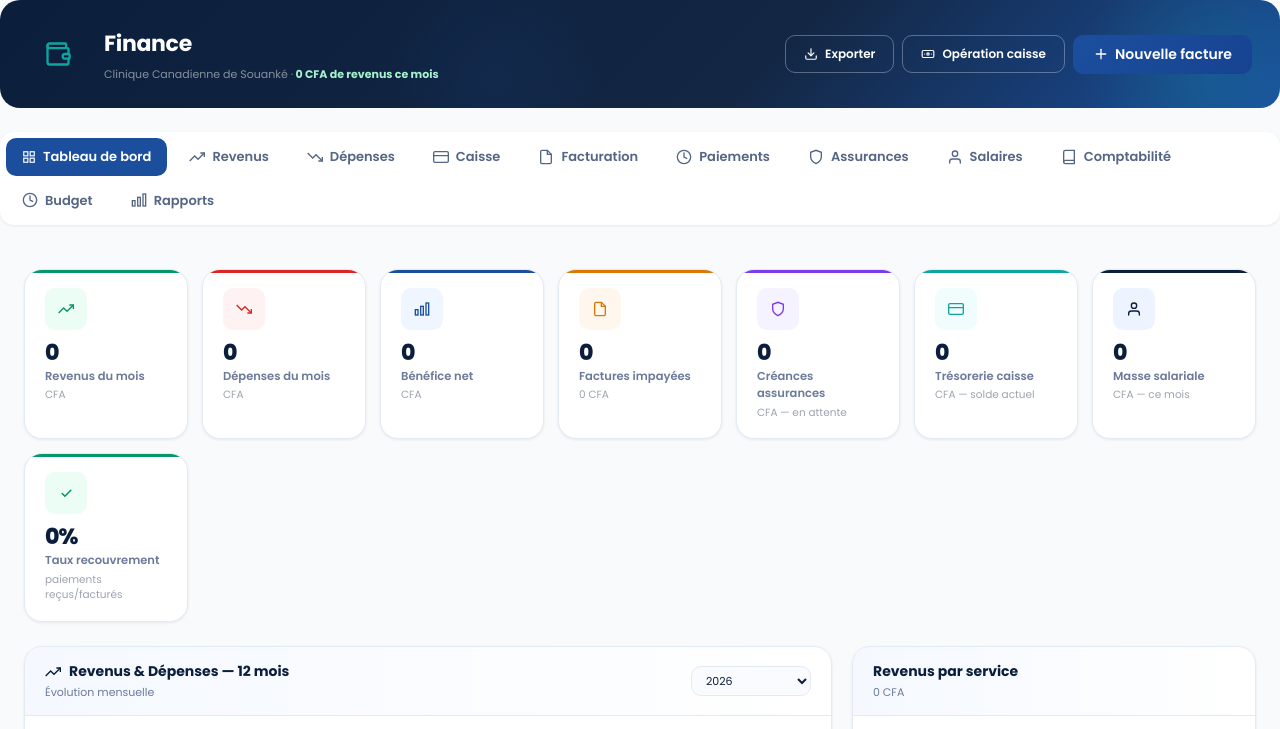
Test case: Caisse — aucun mouvement réel aujourd'hui : état honnête affiché, jamais une ligne de remplissage
The image size is (1280, 729).
Click the button "Caisse". click: (467, 157)
box: [417,138,516,176]
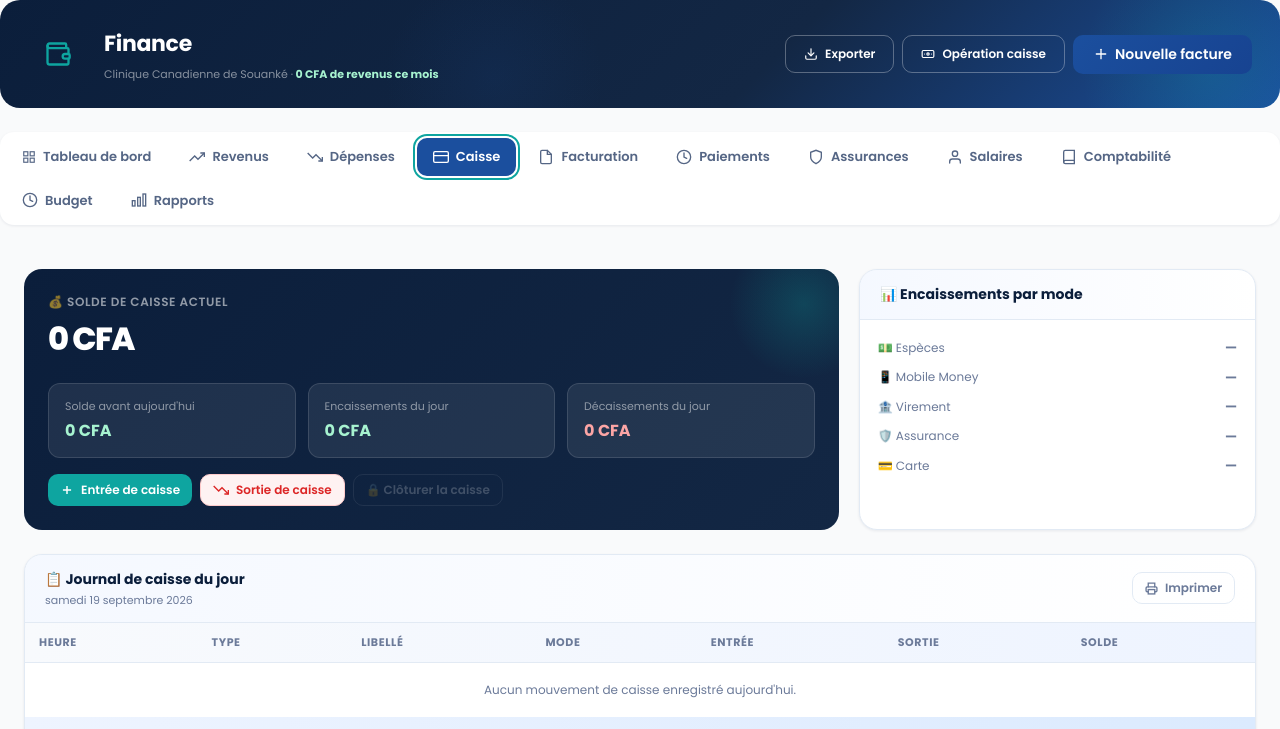
Result: the text "Aucun mouvement de caisse enregistré aujourd'hui." is shown at [25,662,1255,716]
